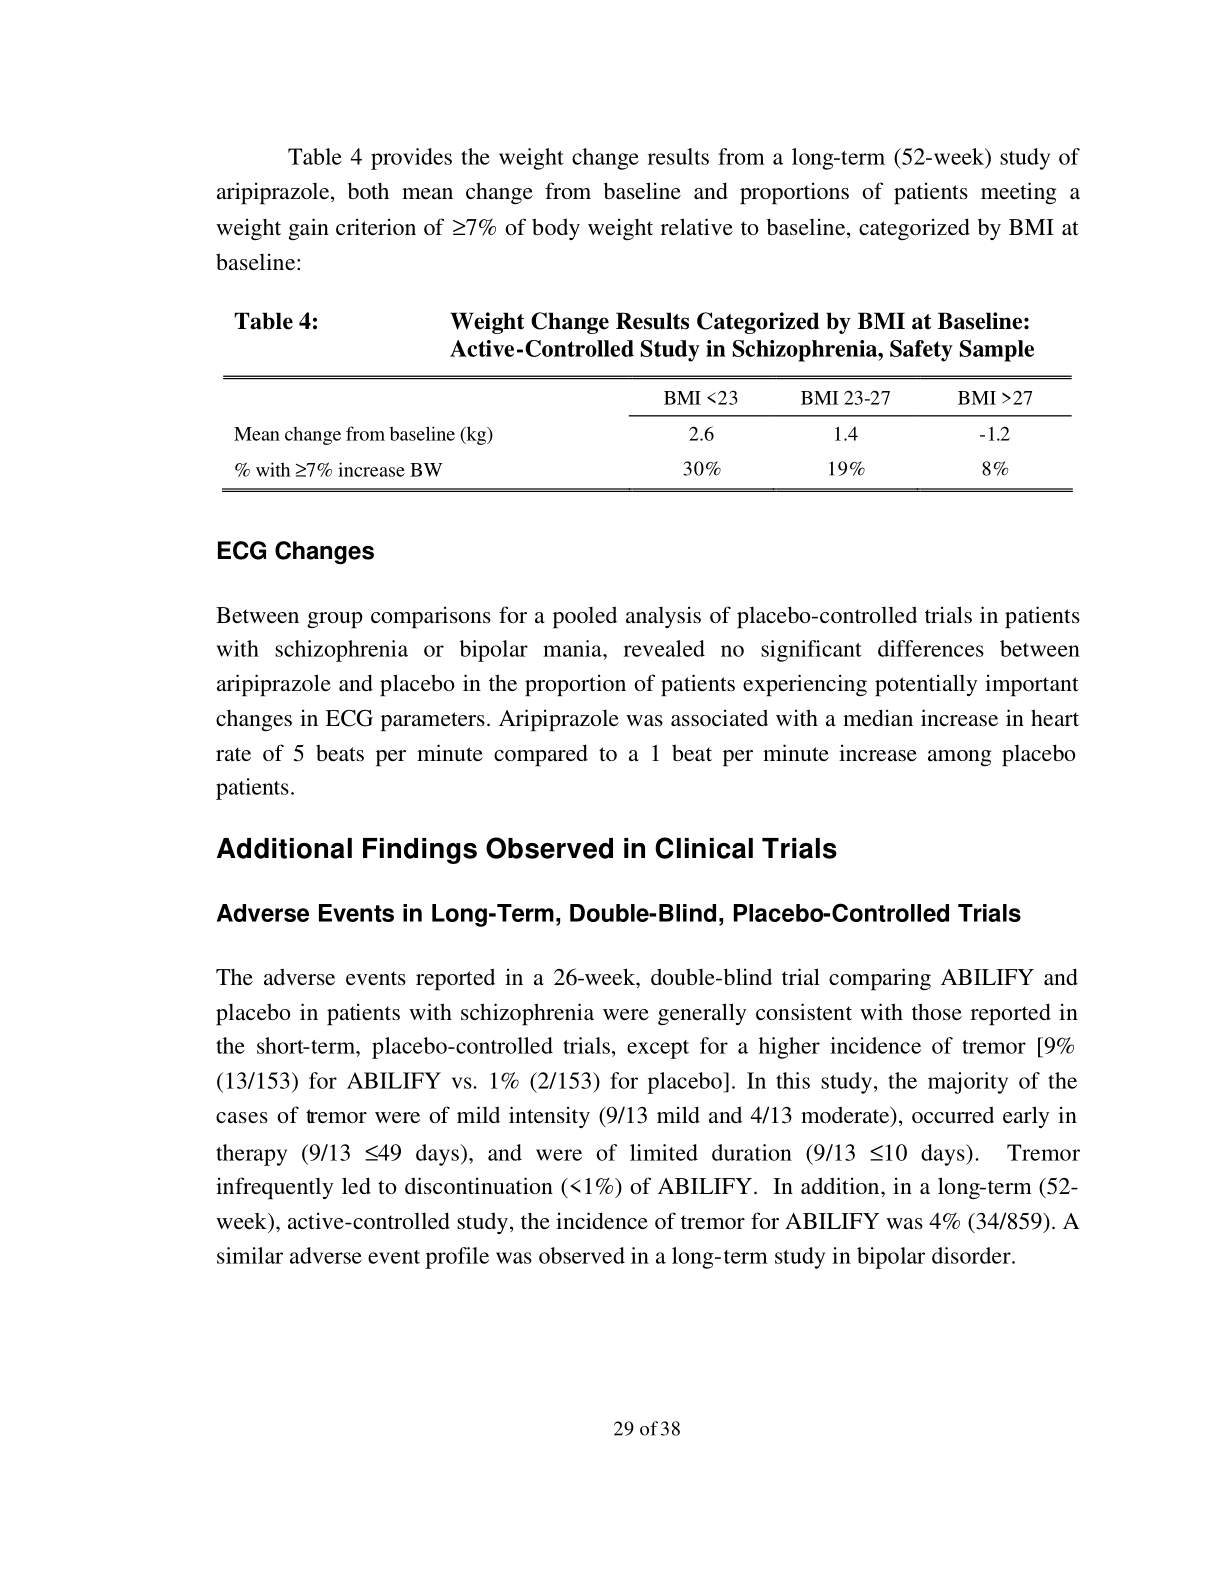partial_lined: (220, 375, 1074, 496)
